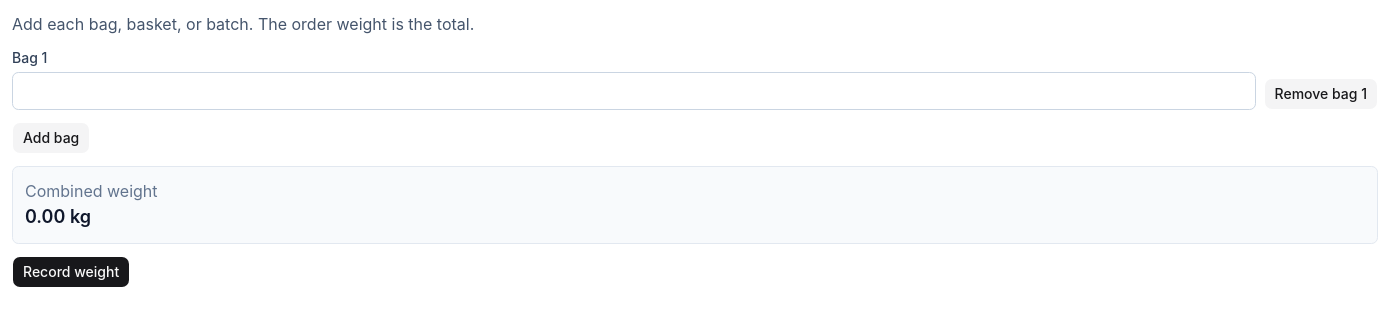
Test: laundry weighing editor › does not submit a blank row and explains why under the input
The image size is (1390, 328).
Clear the field labelled "Bag 1". click: point(634, 91)
box: [12,72,1256,110]
Click the button "Record weight". click: point(71, 272)
box: [12,256,130,288]
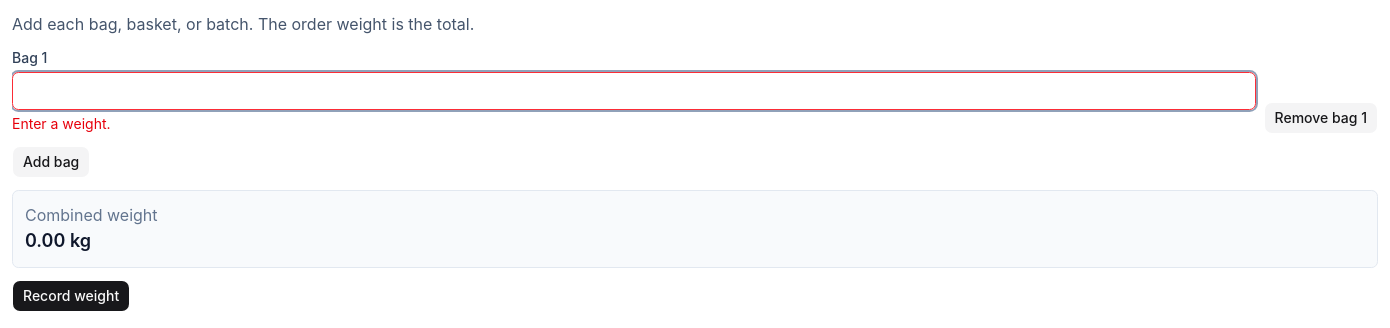
Now the text "Enter a weight." is shown, box [12,115,110,132]
